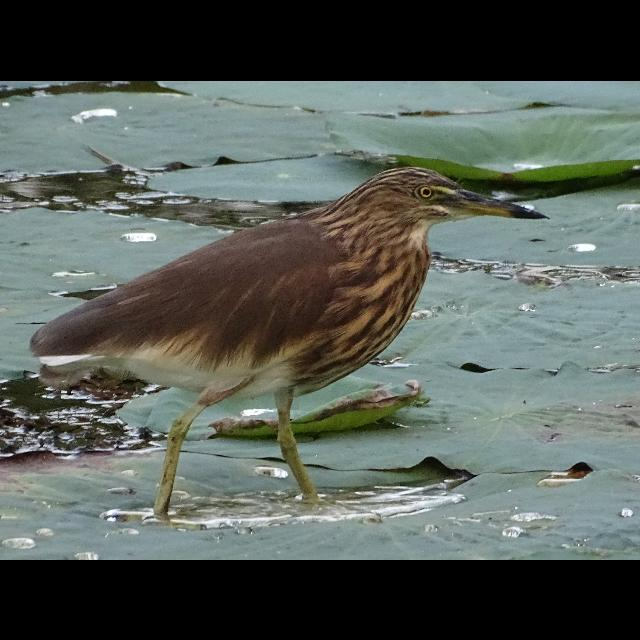heron: (27, 162, 560, 520)
